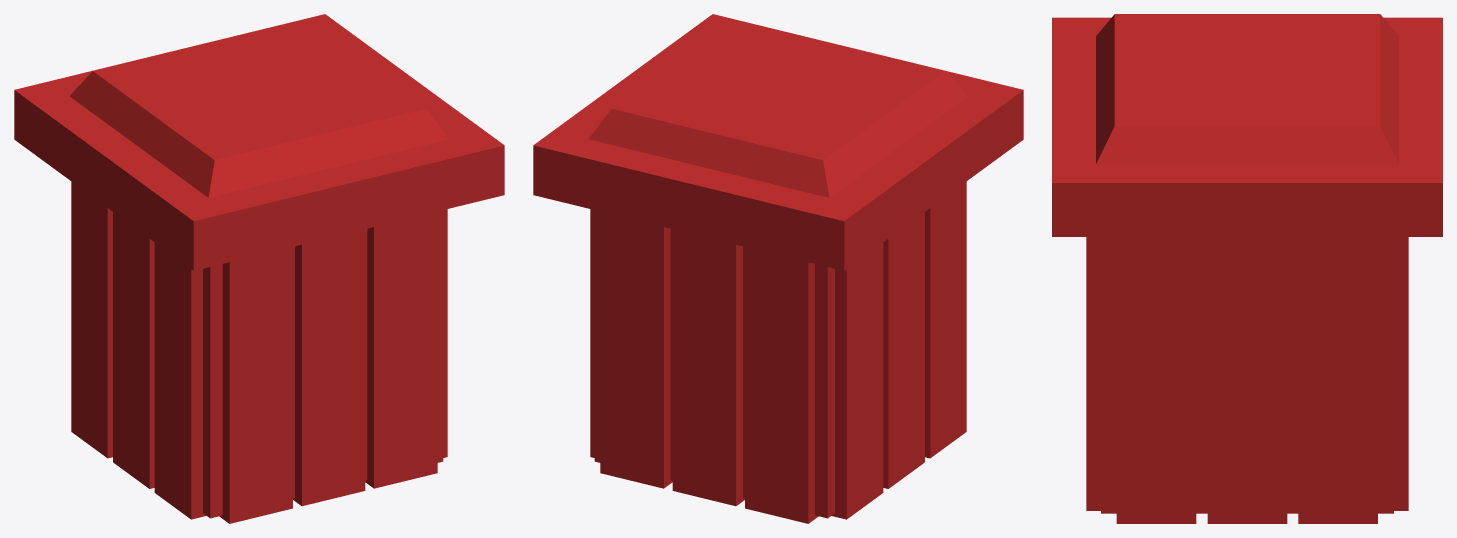
The model's file is Model_Horde_BlockPart.fbx.
The picture shows the model from 3 angles, left to right: view 1: azimuth 30°, elevation 25°; view 2: azimuth 150°, elevation 25°; view 3: azimuth 270°, elevation 25°; orthographic projection. The views are drawn at different scales.
Parts seen in each view (by area): view 1: Model_Frost_Obstacle; view 2: Model_Frost_Obstacle; view 3: Model_Frost_Obstacle.
Part boxes in pixels (left/top/right/bottom): Model_Frost_Obstacle: left=14, top=14, right=504, bottom=523; Model_Frost_Obstacle: left=533, top=14, right=1023, bottom=523; Model_Frost_Obstacle: left=1052, top=14, right=1442, bottom=523.
Bounding box in the file's own units: 200 × 218 × 200.
